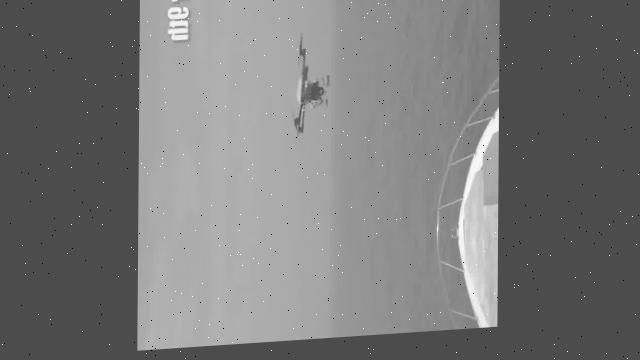drone: (290, 41, 329, 140)
